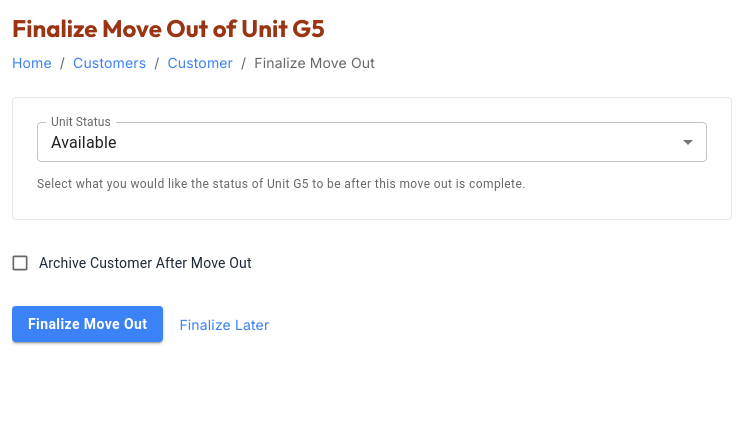
it: <FinalizeMoveOutPage> › surfaces server errors and stays on the page
The width and height of the screenshot is (749, 426).
Expected: the heading "Finalize Move Out of Unit G5" is shown, top-left (12, 13), bottom-right (325, 43)
What coordinates should you click on to do the following:
click the button "Finalize Move Out"
I would click on:
 (88, 324)
Its box is top-left (12, 306), bottom-right (163, 342).
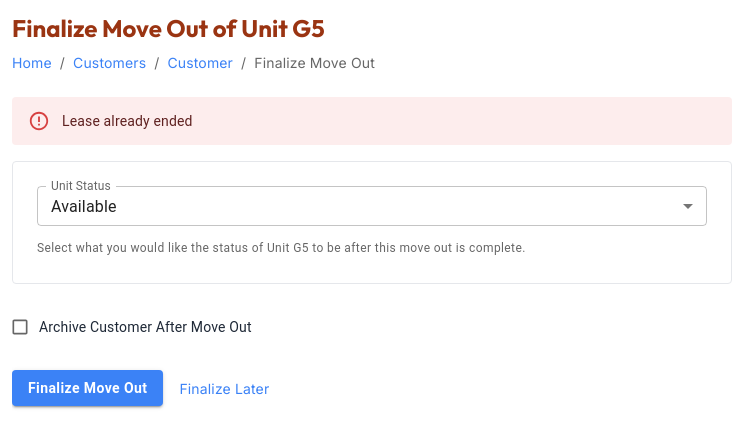
Now the text "Lease already ended" is shown, box top-left (62, 113), bottom-right (193, 129)
